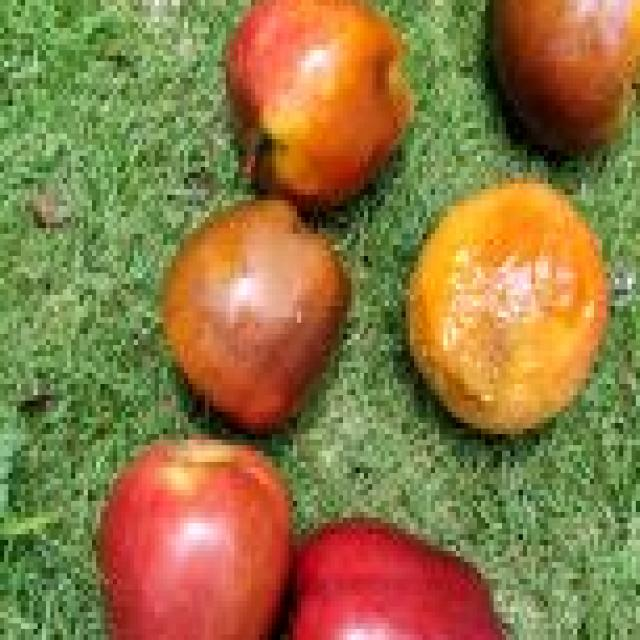Bad_Apple 0-1 day: (406, 181, 609, 433)
Good_Apple 10-21 days: (98, 442, 506, 640)
